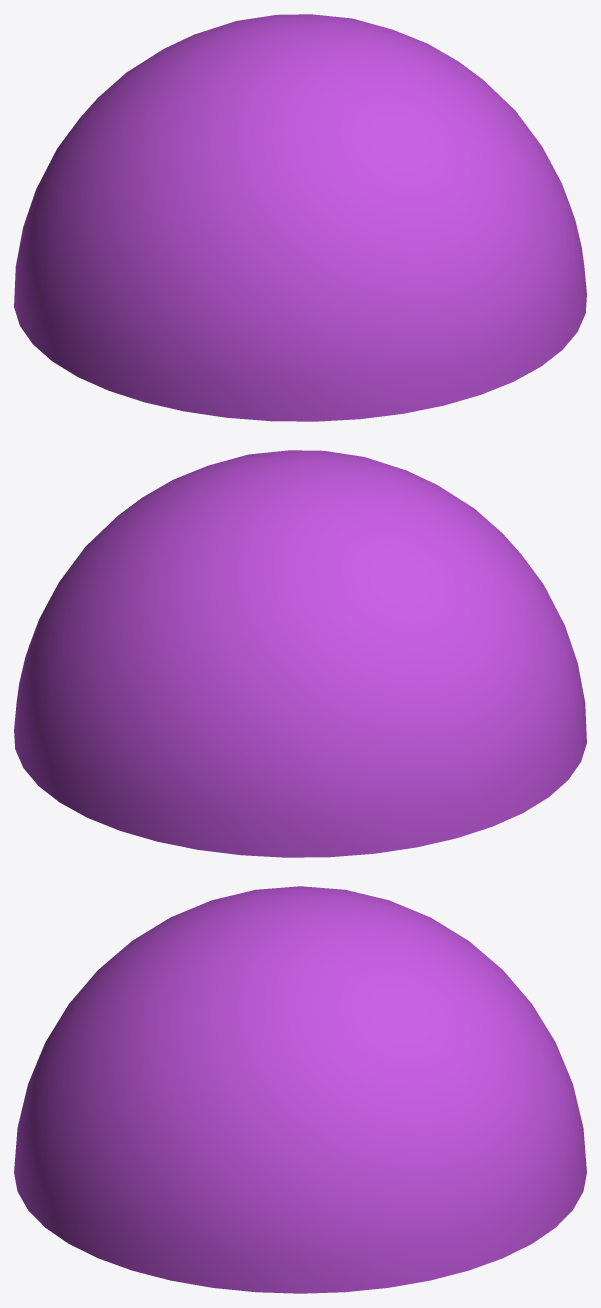
File: dome314.DAE
3 renders of one model, top to bottom at view 1: azimuth 30°, elevation 25°; view 2: azimuth 150°, elevation 25°; view 3: azimuth 270°, elevation 25°, orthographic.
Visible parts, largest first — view 1: GeoSphere01; view 2: GeoSphere01; view 3: GeoSphere01.
Boxes of the visible parts, box(x1,y1,x2,y2) form: GeoSphere01: box(14, 14, 586, 421); GeoSphere01: box(14, 450, 586, 857); GeoSphere01: box(14, 886, 586, 1293).
Bounding box in the file's own units: 40 × 40 × 20.
